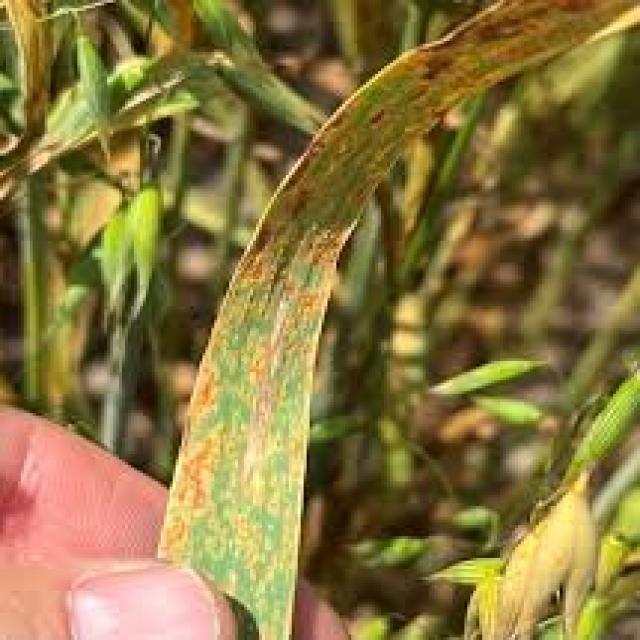leaf_blight: (161, 0, 637, 637)
